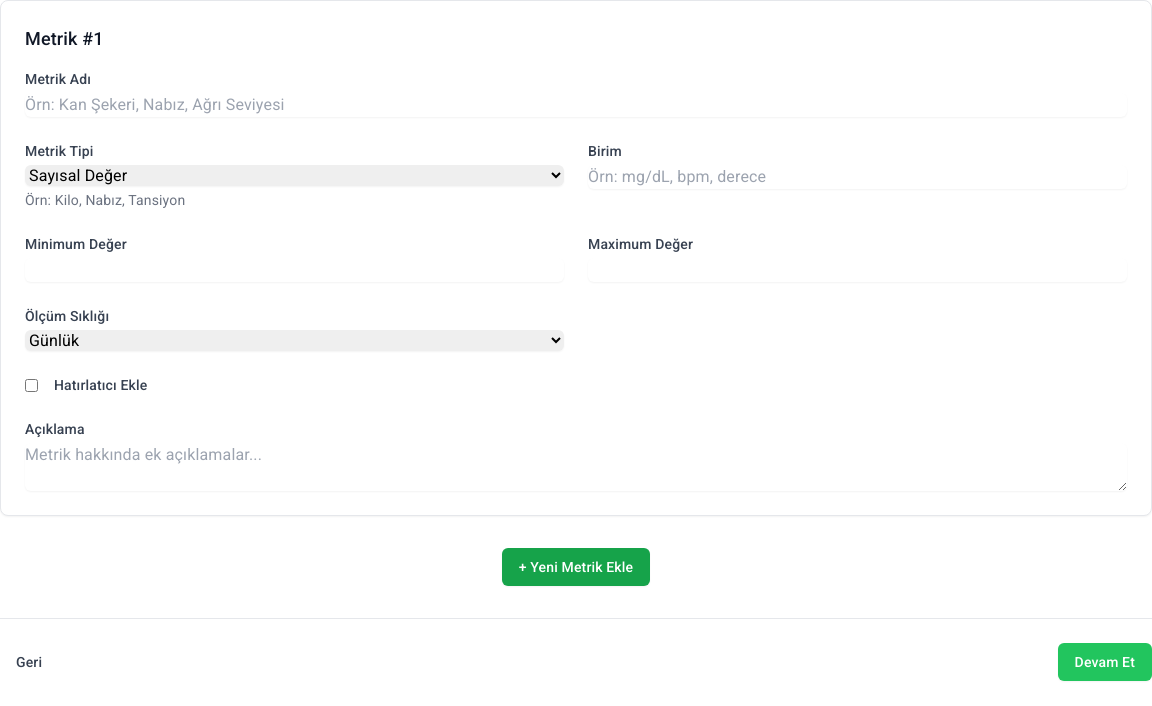
Test: HealthMetricStep › removes metric when clicking delete button
# Add a new metric first
Click the button "+ Yeni Metrik Ekle": point(576, 567) [502,548,650,586]
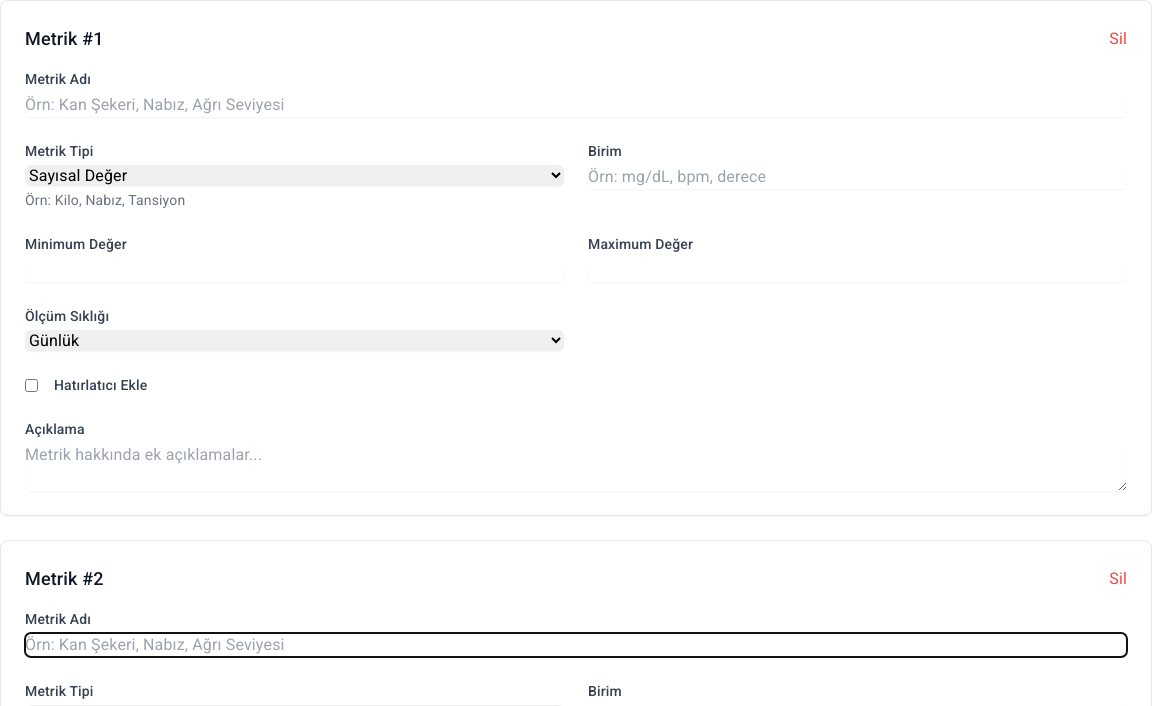
# Click delete on the second metric
Click the 1st button "Sil": point(1118, 39) [1109,27,1127,51]
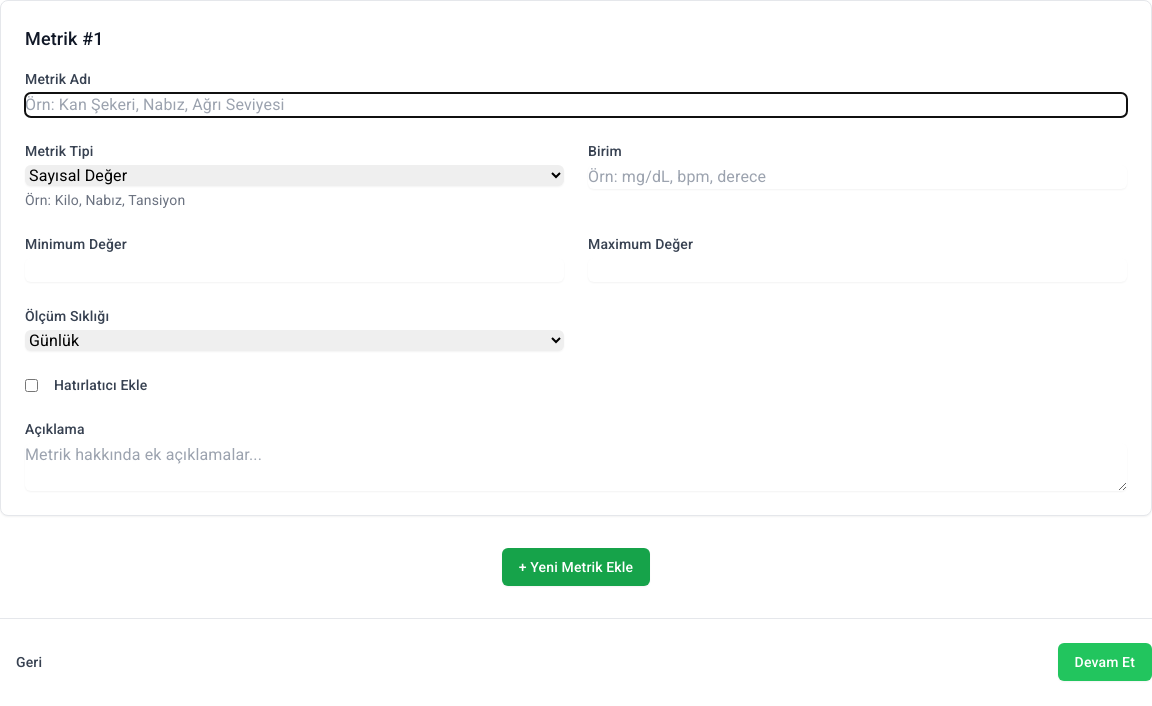
Expected: the number of headings "Metrik #1" is 1, [25,25,104,53]
